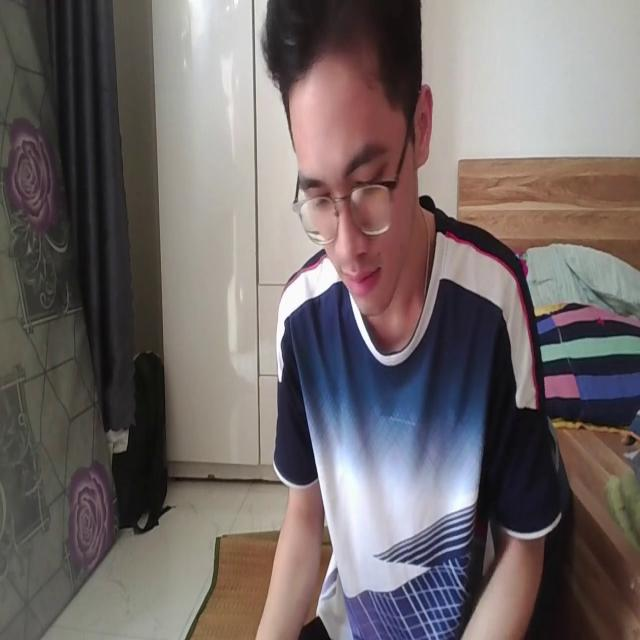student: (249, 0, 548, 640)
